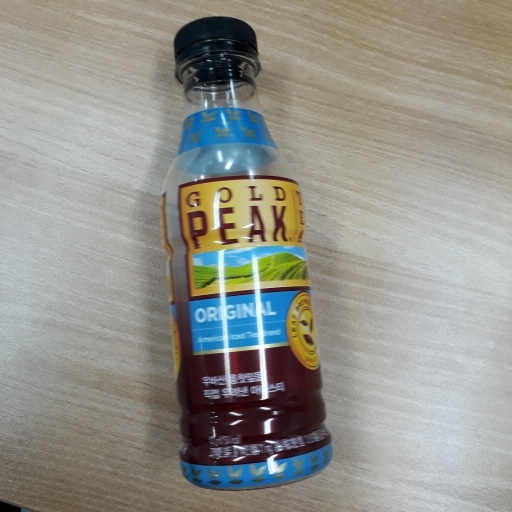Plastic_0: (153, 13, 337, 489)
